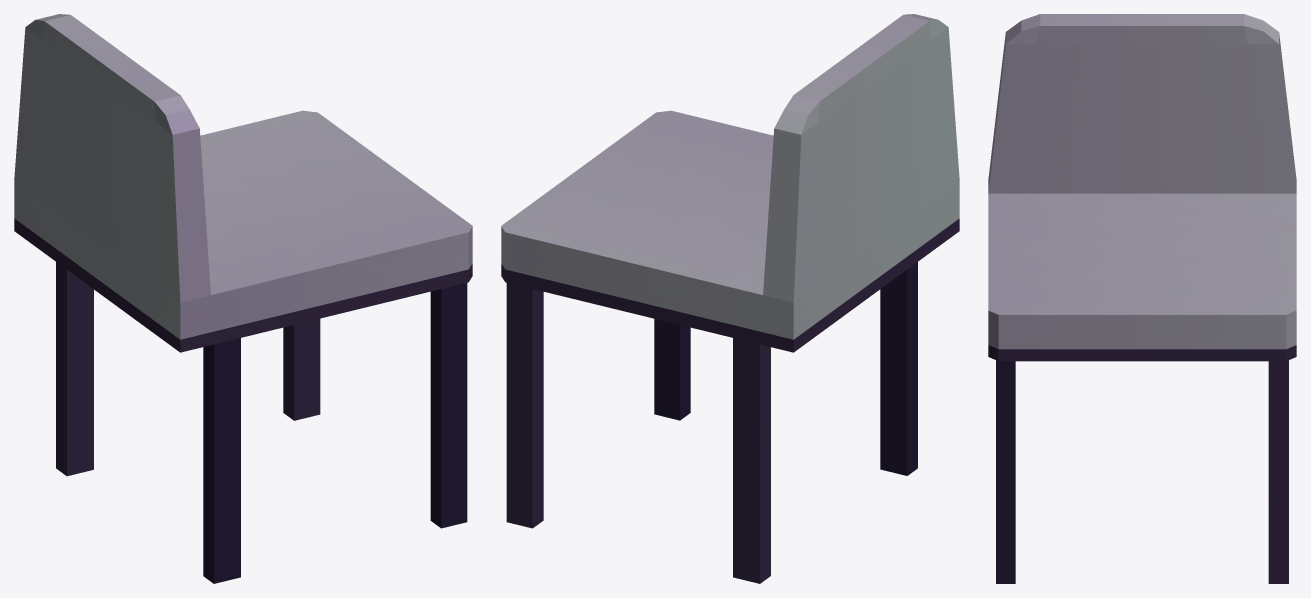
File: Interior_Chair_Plastic.fbx
3 renders of one model, left to right at view 1: azimuth 30°, elevation 25°; view 2: azimuth 150°, elevation 25°; view 3: azimuth 270°, elevation 25°, orthographic. The views are drawn at different scales.
Visible parts, largest first — view 1: Chair_WhiteLegs; view 2: Chair_WhiteLegs; view 3: Chair_WhiteLegs.
Part boxes in pixels (x1,y1,x2,y2): Chair_WhiteLegs: (14, 14, 472, 583); Chair_WhiteLegs: (501, 14, 959, 583); Chair_WhiteLegs: (988, 14, 1296, 583).
Bounding box in the file's own units: 36.17 × 54.9 × 34.92.
